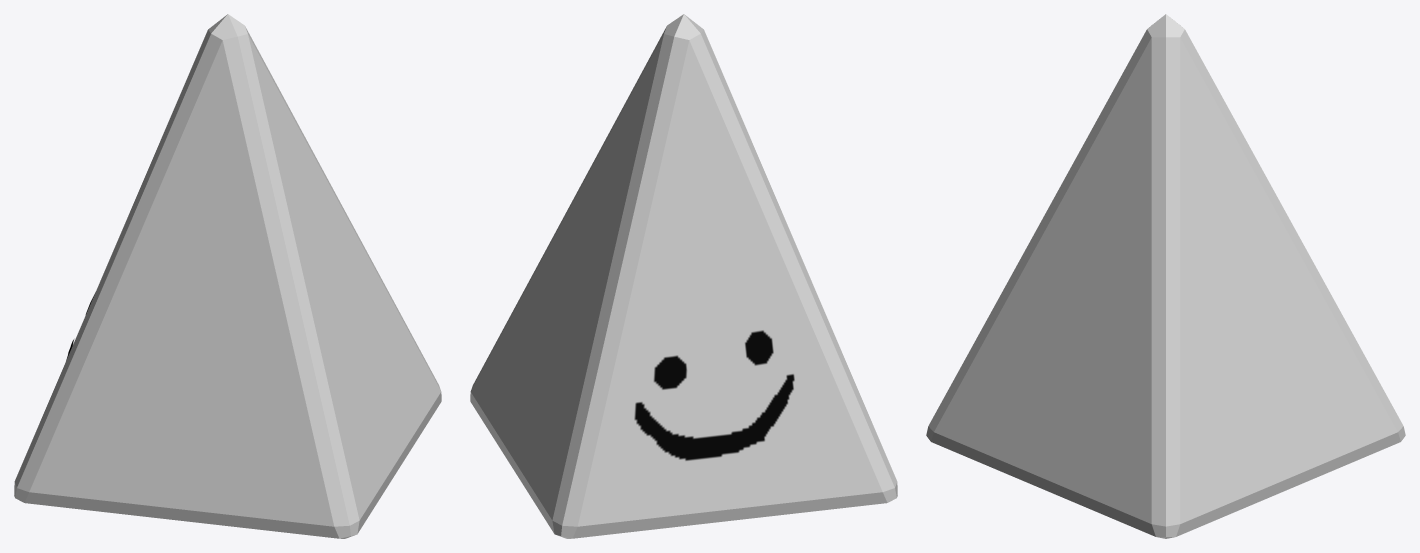
3 views of the same model, side by side, from view 1: azimuth 30°, elevation 25°; view 2: azimuth 150°, elevation 25°; view 3: azimuth 270°, elevation 25° (orthographic). The views are drawn at different scales.
Parts seen in each view (by area): view 1: Cone; view 2: Cone, face; view 3: Cone.
Boxes of the visible parts, x1,y1,x2,y2 form: Cone: (14,14,441,538); Cone: (470,14,897,538); face: (634,330,794,460); Cone: (926,14,1405,538).
Bounding box in the file's own units: 0.9391 × 0.9258 × 0.9391.
1 material, 1 textured.
